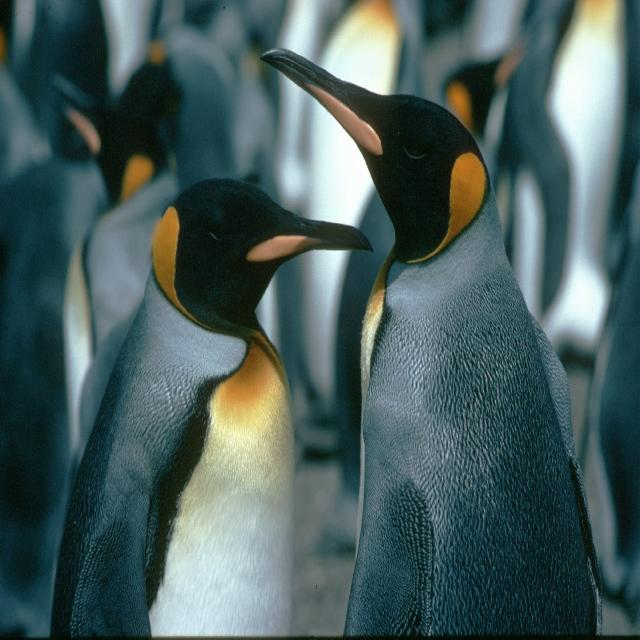Penguins: (323, 45, 604, 640), (118, 161, 339, 637)
